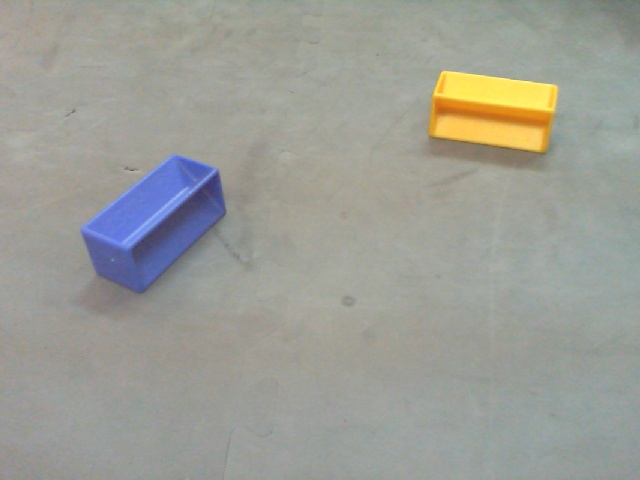BlueSample: (78, 151, 233, 301)
YellowSample: (428, 68, 563, 159)
